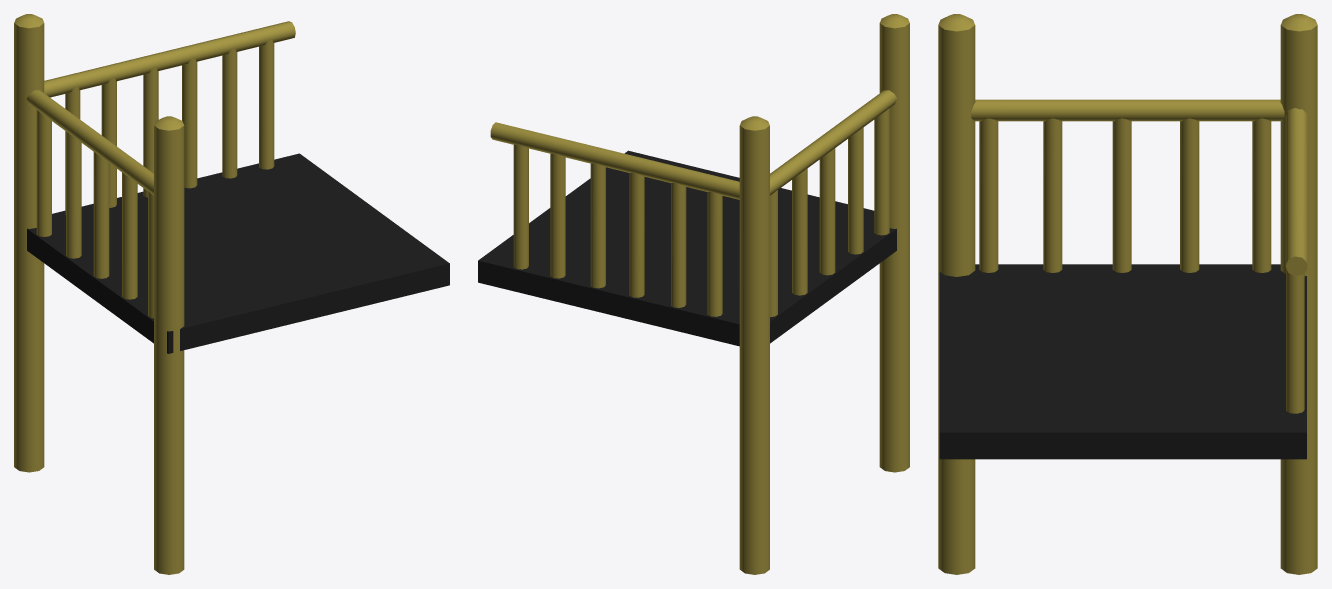
File: ART-MOD-A-Castle-Corner2-002.FBX
The picture shows the model from 3 angles, left to right: view 1: azimuth 30°, elevation 25°; view 2: azimuth 150°, elevation 25°; view 3: azimuth 270°, elevation 25°; orthographic projection. The views are drawn at different scales.
Parts seen in each view (by area): view 1: Cylinder084; view 2: Cylinder084; view 3: Cylinder084.
Part boxes in pixels (<box>): Cylinder084: <box>14,14,449,574</box>; Cylinder084: <box>478,14,909,574</box>; Cylinder084: <box>938,14,1317,574</box>.
Size of the model in its own units: 92.22 by 138 by 86.56.
